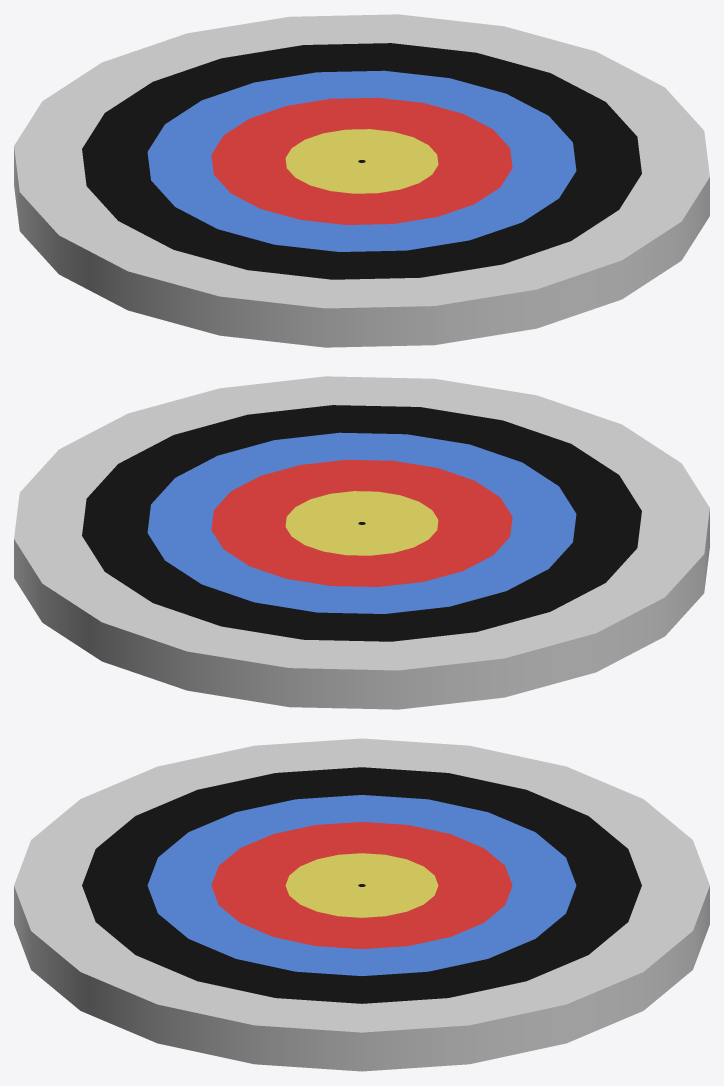
The model's file is Target.fbx.
3 renders of one model, top to bottom at view 1: azimuth 30°, elevation 25°; view 2: azimuth 150°, elevation 25°; view 3: azimuth 270°, elevation 25°, orthographic.
Visible parts, largest first — view 1: Circle; view 2: Circle; view 3: Circle.
Boxes of the visible parts, <box> form: Circle: <box>14,14,709,347</box>; Circle: <box>14,376,709,709</box>; Circle: <box>14,738,709,1071</box>.
Size of the model in its own units: 200 by 12.34 by 200.
